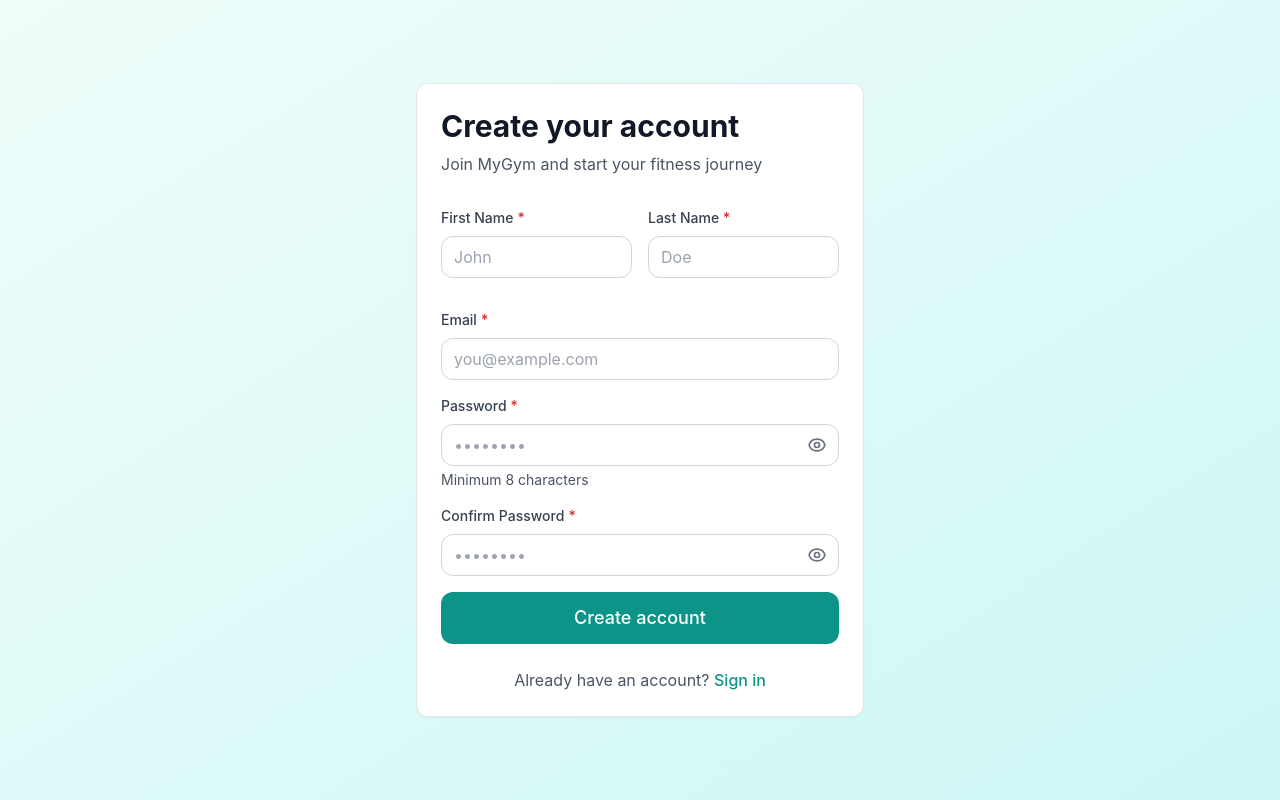
SignupPage › should show an error when passwords do not match
The image size is (1280, 800).
Type "Jane" into the field with placeholder "John" at (536, 257), box [441, 236, 632, 278]
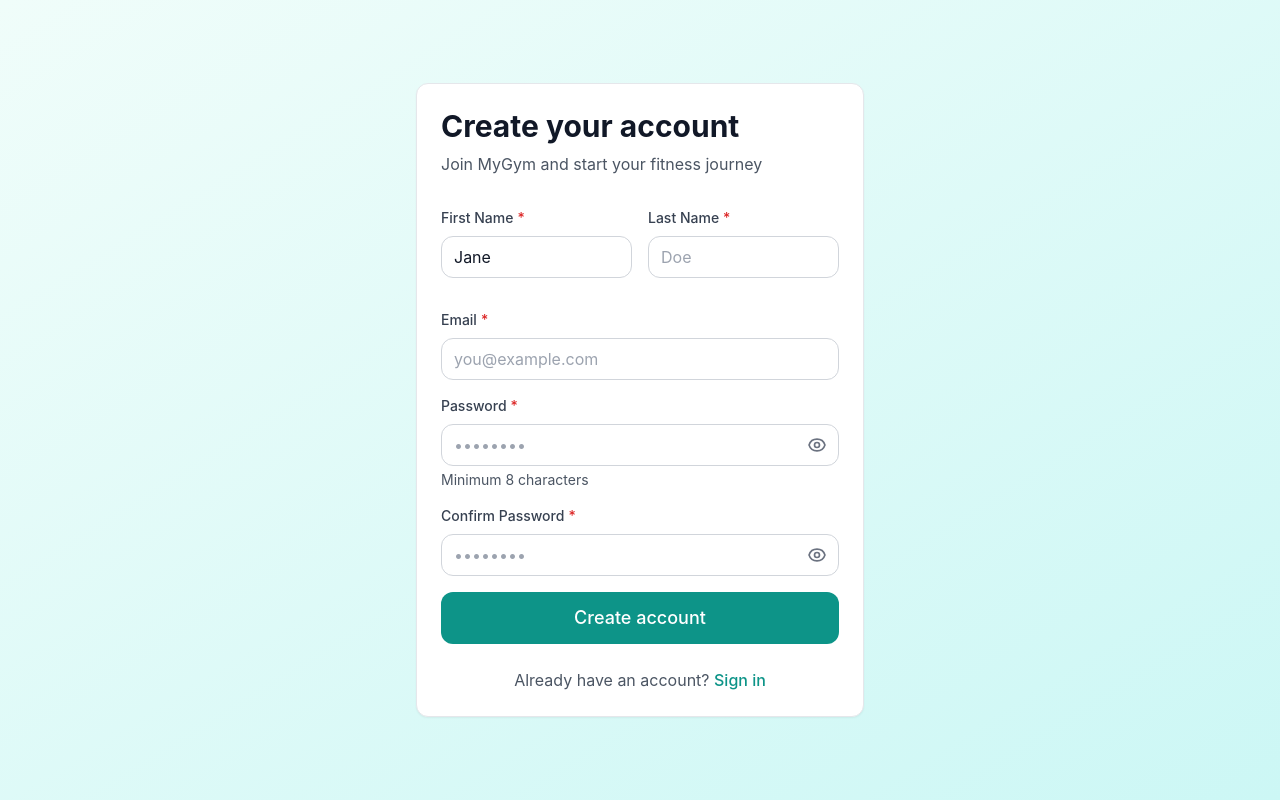
Type "Smith" into the field with placeholder "Doe" at (744, 257), box [648, 236, 839, 278]
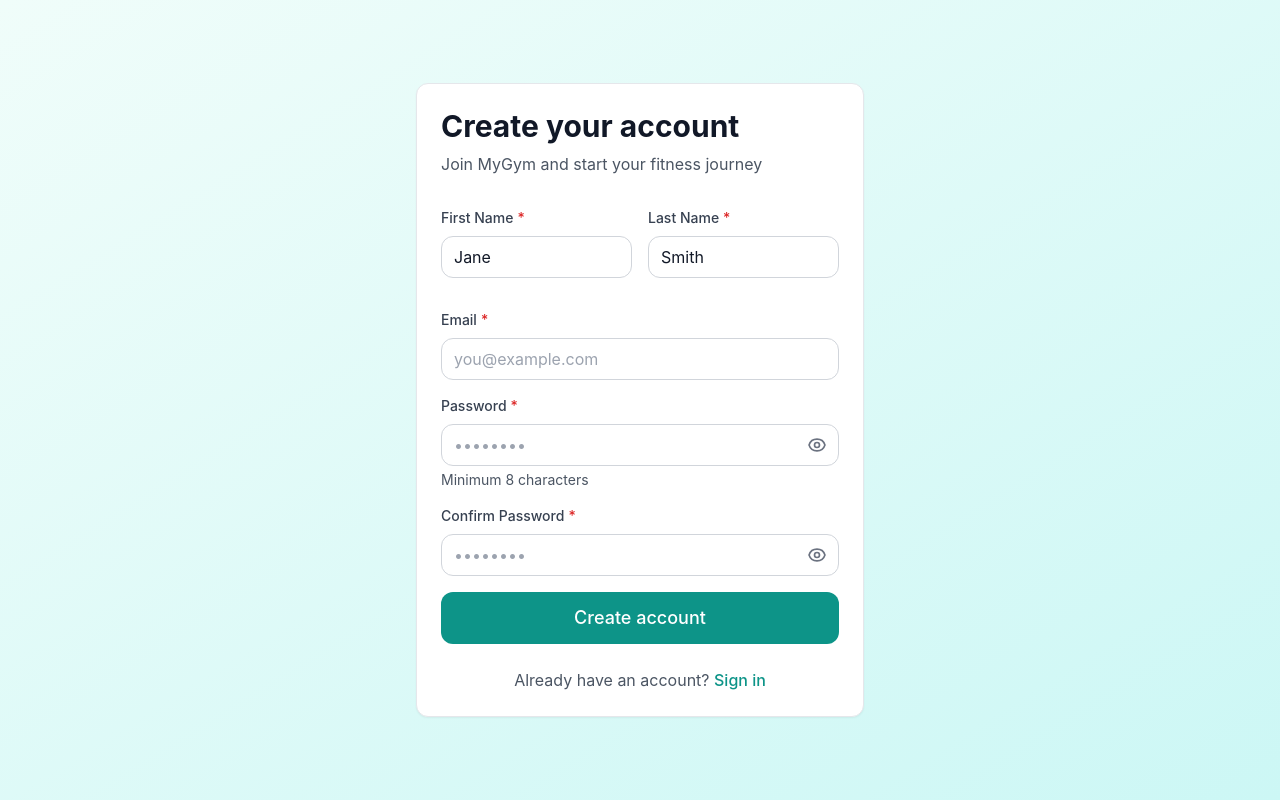
Type "newuser@example.com" into the field with placeholder "you@example.com" at (640, 359), box [441, 338, 839, 380]
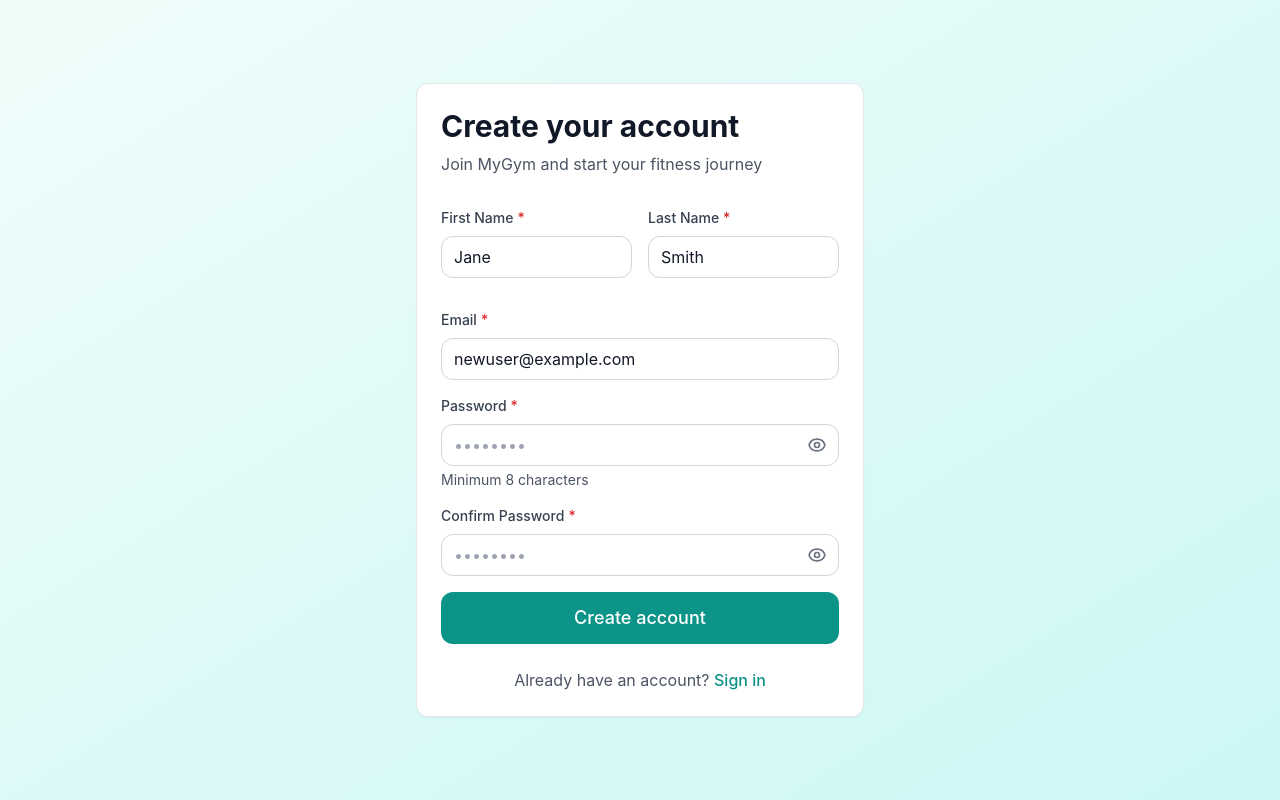
Type "password123" into the password field labelled "Password*" at (640, 445), box [441, 424, 839, 466]
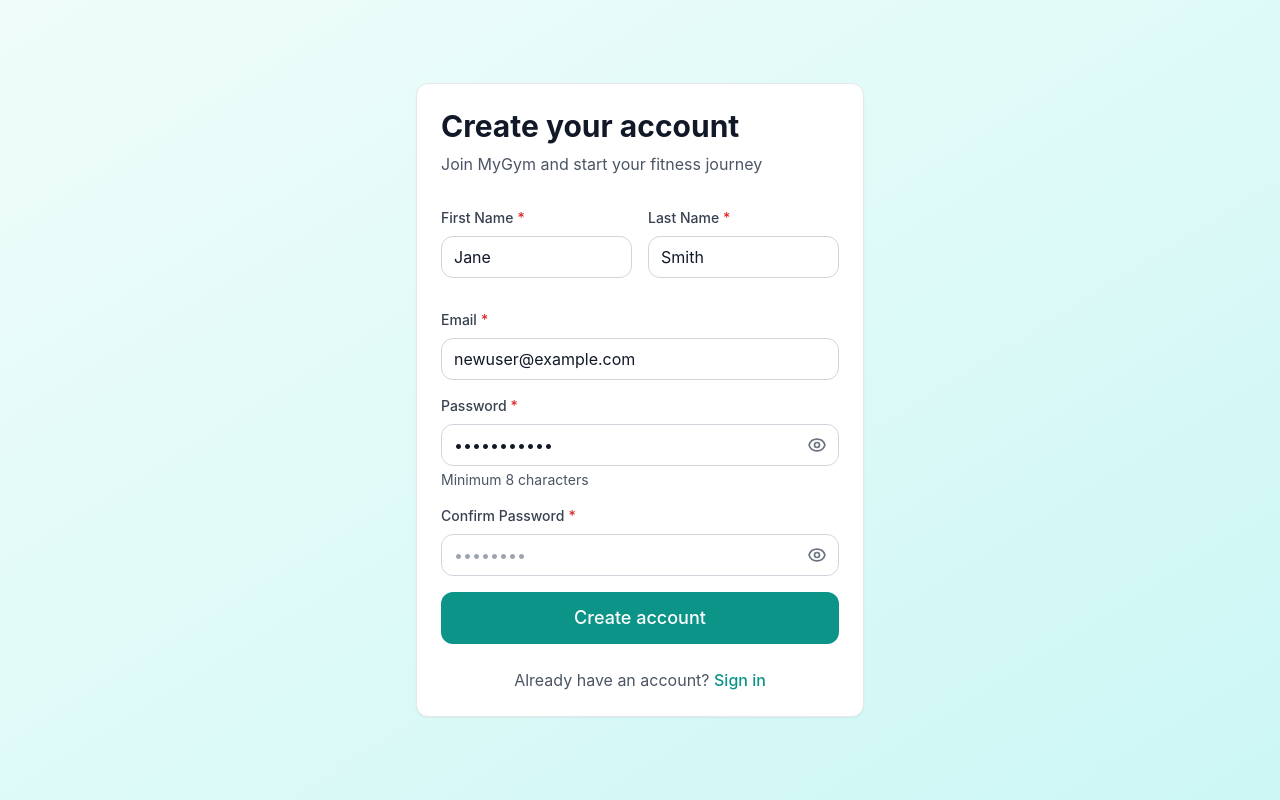
Type "password456" into the password field labelled "Confirm Password*" at (640, 555), box [441, 534, 839, 576]
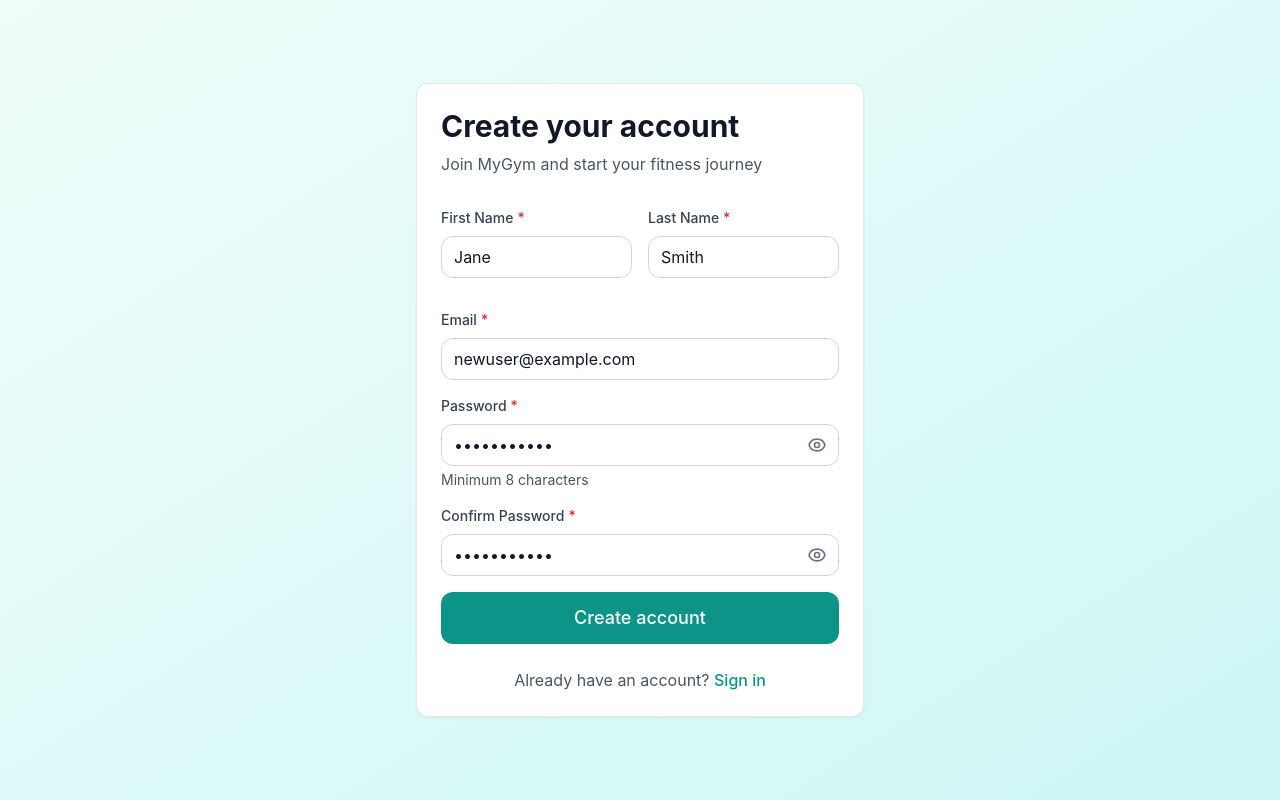
Click the button "Create account" at (640, 618), box [441, 592, 839, 644]
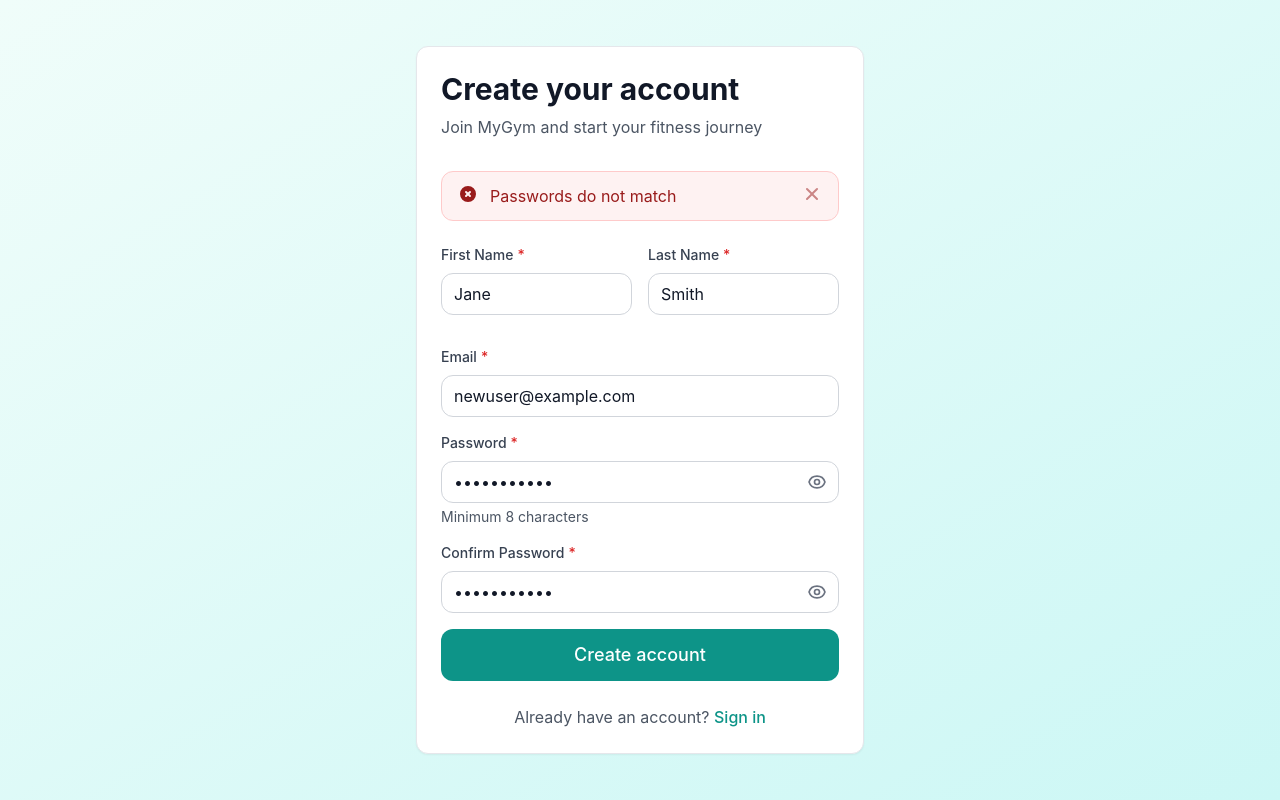
Expected: the text "Passwords do not match" is shown, [490, 186, 676, 206]
